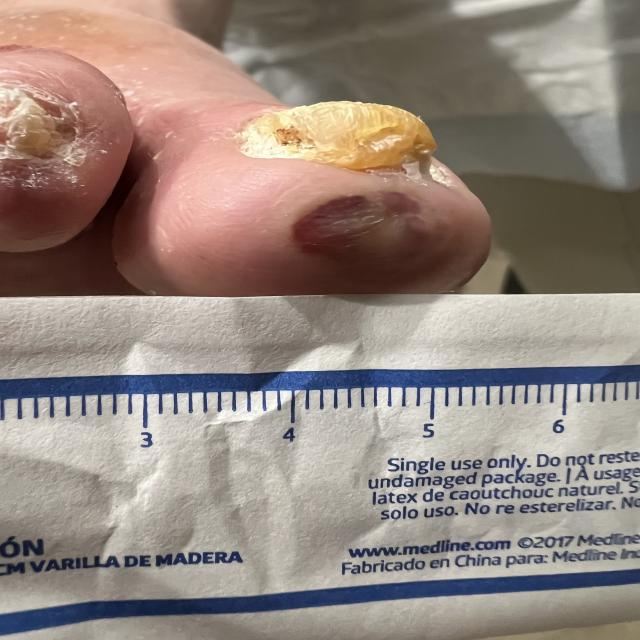DTI: (296, 183, 436, 269)
